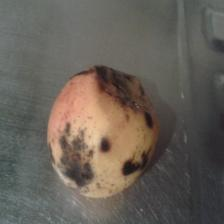Mango Rotten: (39, 58, 162, 192)
